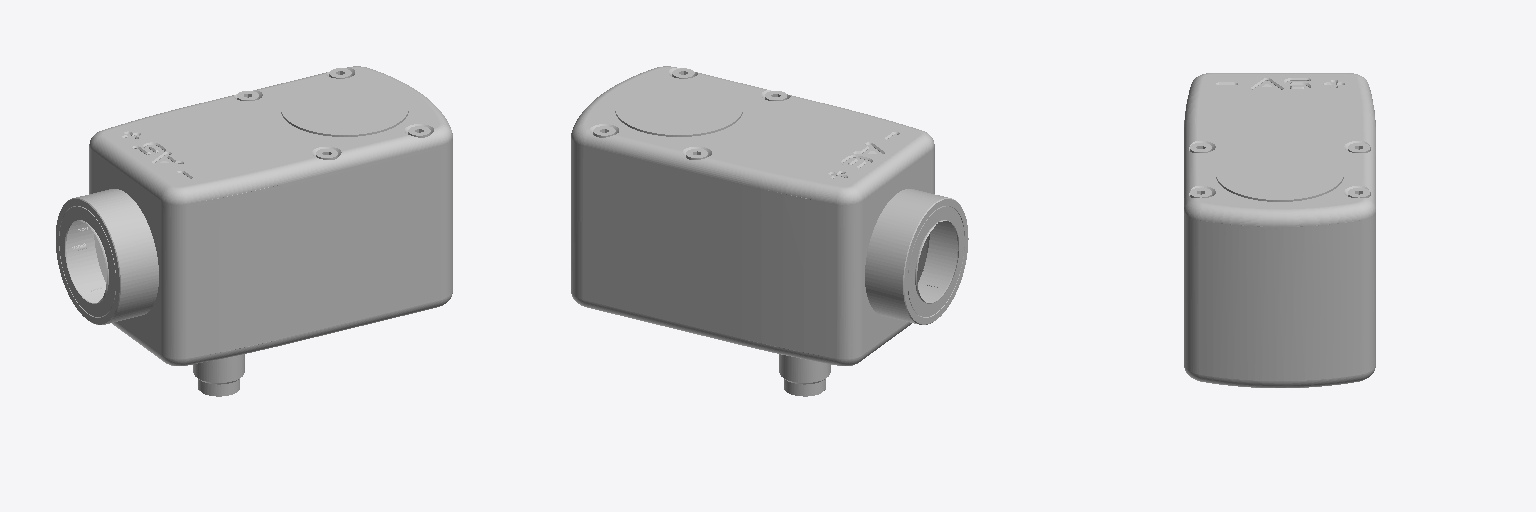
3 views of the same model, side by side, from view 1: azimuth 30°, elevation 25°; view 2: azimuth 150°, elevation 25°; view 3: azimuth 270°, elevation 25° (orthographic).
Visible parts, largest first — view 1: Axis6; view 2: Axis6; view 3: Axis6.
Part boxes in pixels (left/top/right/bottom): Axis6: left=56, top=66, right=452, bottom=396; Axis6: left=571, top=66, right=968, bottom=396; Axis6: left=1184, top=73, right=1375, bottom=387.
Size of the model in its own units: 9.2 by 6.52 by 4.5.